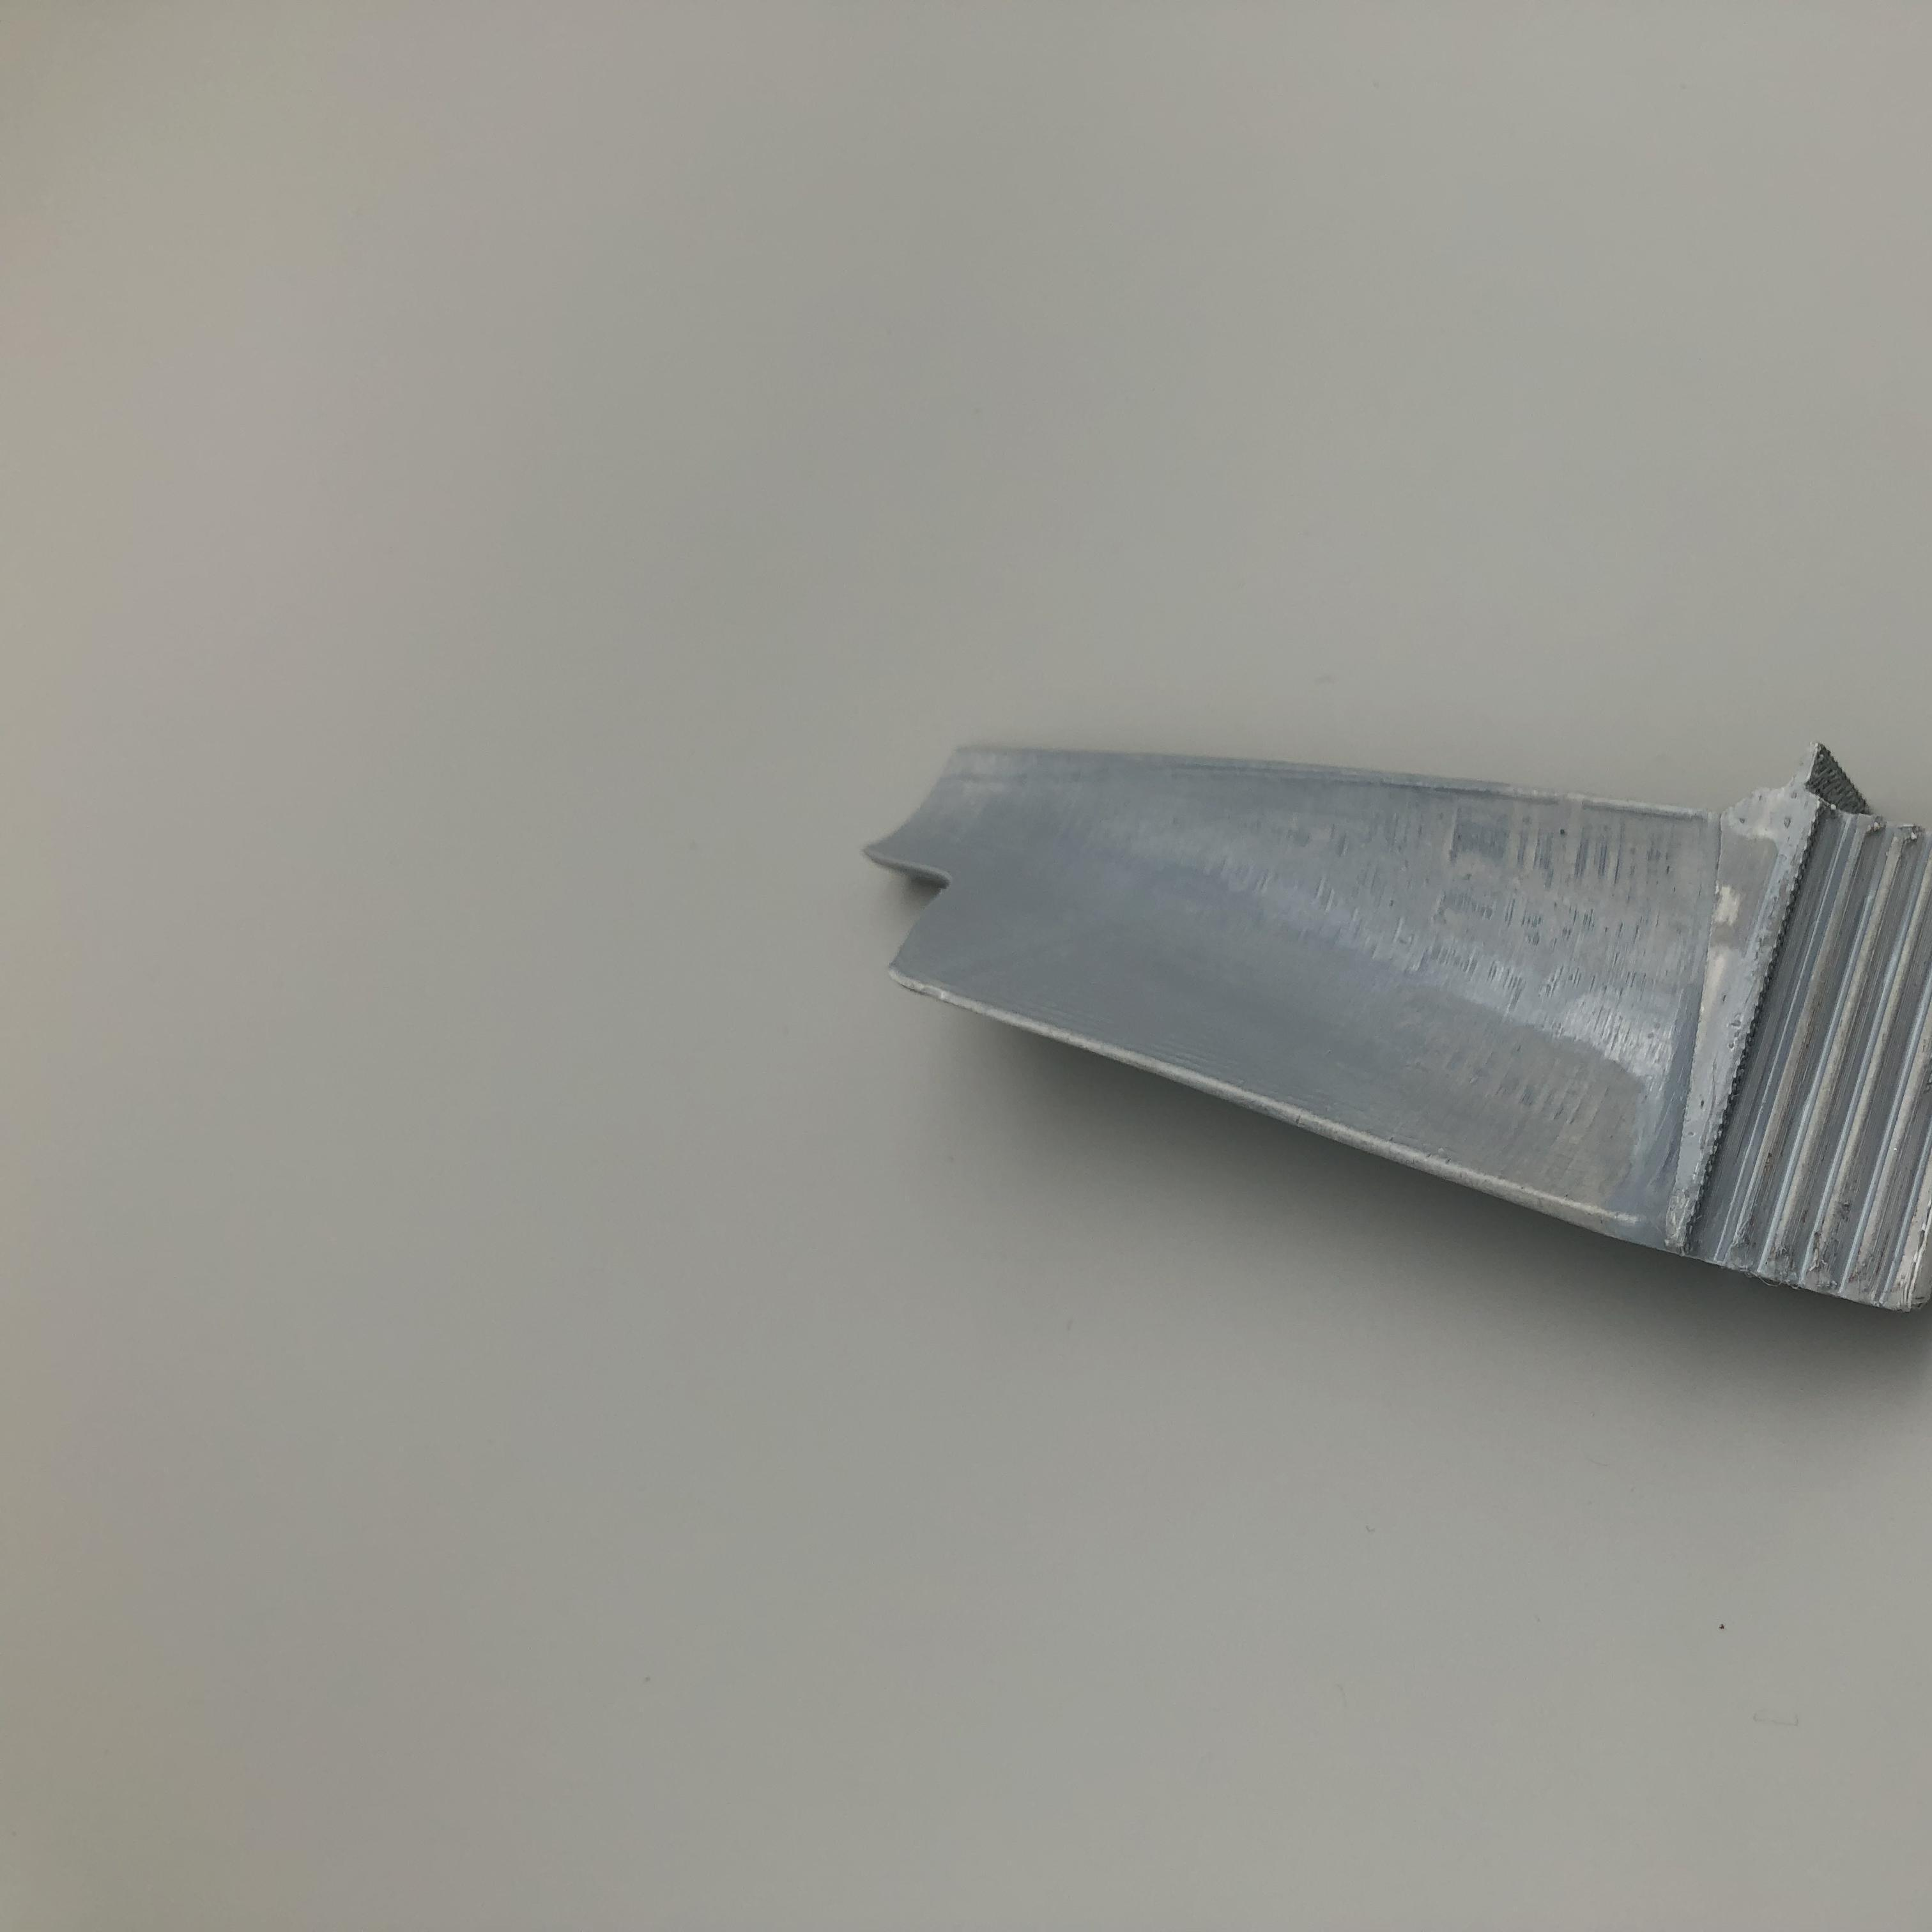fracture: (865, 846, 982, 985)
